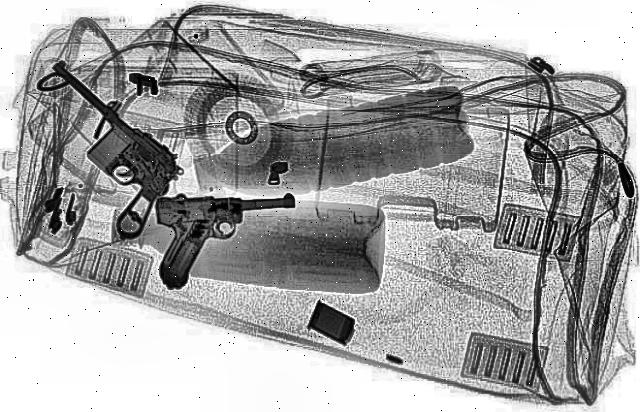Gun: (0, 82, 218, 220), (152, 196, 300, 290)
